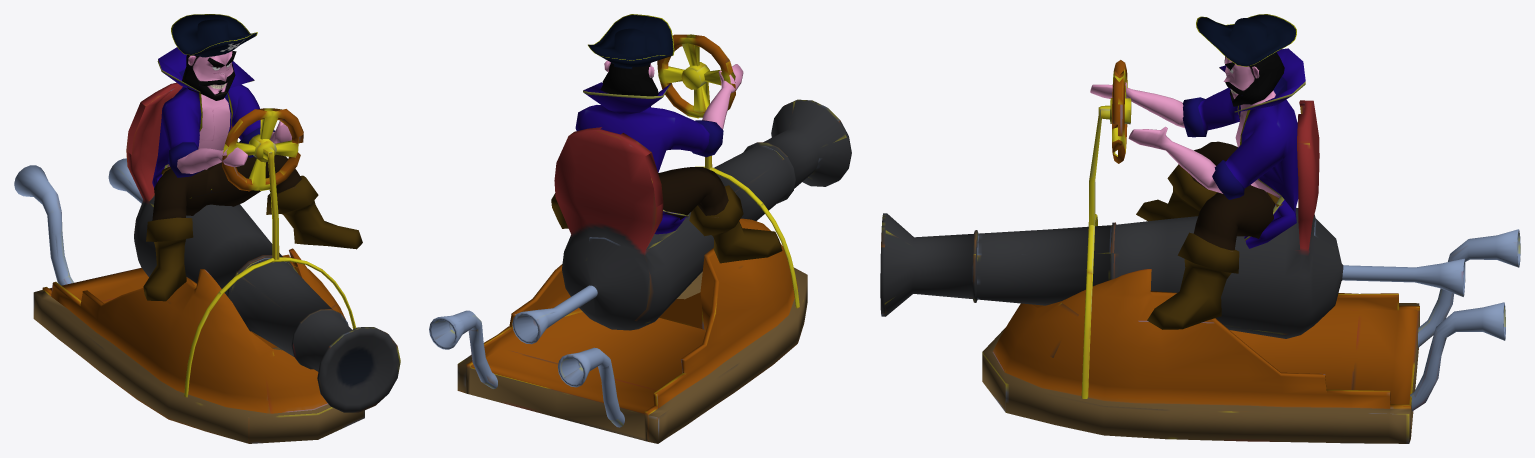
The model's file is pirataLanzamiento_000652.obj.
3 views of the same model, side by side, from view 1: azimuth 30°, elevation 25°; view 2: azimuth 150°, elevation 25°; view 3: azimuth 270°, elevation 25° (orthographic). The views are drawn at different scales.
Parts seen in each view (by area): view 1: carro_pirata_carro_pirata.001, Pirata_PirataH; view 2: carro_pirata_carro_pirata.001, Pirata_PirataH; view 3: carro_pirata_carro_pirata.001, Pirata_PirataH.
Part boxes in pixels (box(x1,y1,x2,y2)): carro_pirata_carro_pirata.001: box(14, 82, 400, 443); Pirata_PirataH: box(143, 14, 362, 301); carro_pirata_carro_pirata.001: box(429, 34, 851, 443); Pirata_PirataH: box(551, 14, 782, 263); carro_pirata_carro_pirata.001: box(880, 60, 1520, 443); Pirata_PirataH: box(1090, 14, 1305, 329).
Size of the model in its own units: 5.37 by 7.63 by 12.1.
